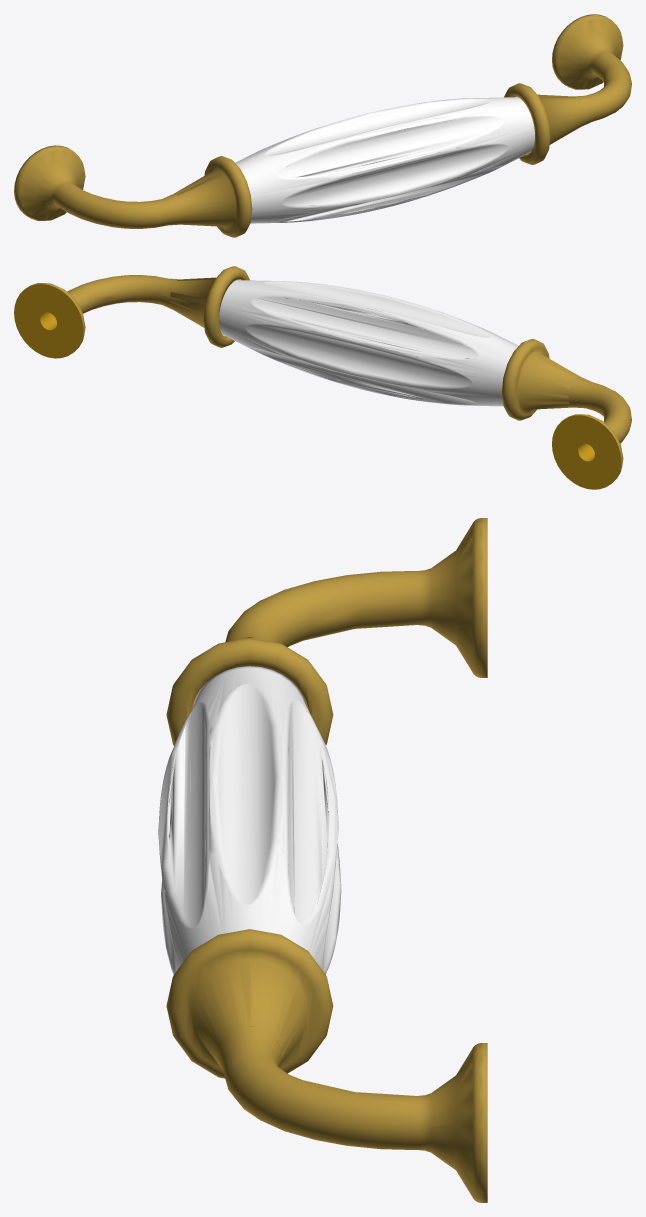
The model's file is furniture_handle_2.glb.
3 renders of one model, top to bottom at view 1: azimuth 30°, elevation 25°; view 2: azimuth 150°, elevation 25°; view 3: azimuth 270°, elevation 25°, orthographic. The views are drawn at different scales.
Visible parts, largest first — view 1: poignee; view 2: poignee; view 3: poignee.
Part boxes in pixels (x1,y1,x2,y2): poignee: (14,14,631,237); poignee: (14,266,631,489); poignee: (158,518,487,1202).
Bounding box in the file's own units: 0.1445 × 0.0189 × 0.0339.
